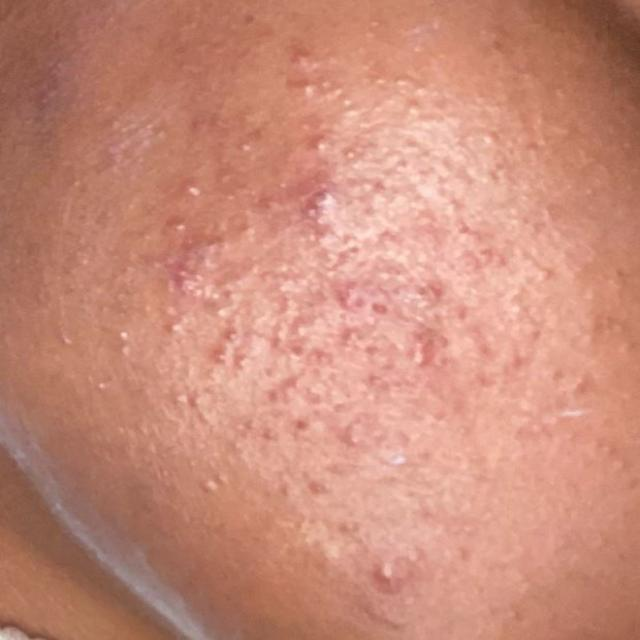fungal: (130, 30, 593, 602)
